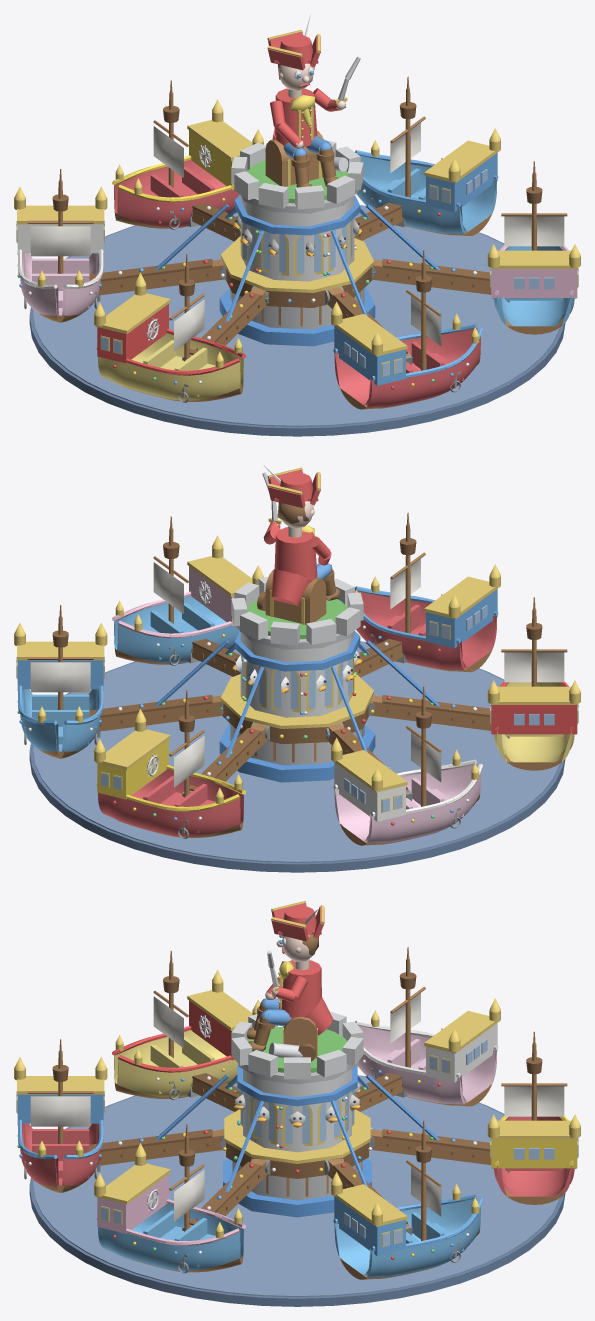
The picture shows the model from 3 angles, top to bottom: view 1: azimuth 30°, elevation 25°; view 2: azimuth 150°, elevation 25°; view 3: azimuth 270°, elevation 25°; orthographic projection.
Parts seen in each view (by area): view 1: base, hang3, hang4, hang0, hang1, hang2, hang5, rotor, tilt2, tilt5, tilt3, tilt4 (+2 smaller); view 2: base, hang1, hang2, hang4, hang5, hang0, hang3, rotor, tilt0, tilt3, tilt1, tilt2 (+2 smaller); view 3: base, hang5, hang0, hang2, hang3, hang4, hang1, rotor, tilt4, tilt1, tilt5, tilt0 (+2 smaller).
Part boxes in pixels (x1=…): base: x1=29, y1=14, x2=565, y2=436; hang3: x1=94, y1=253, x2=246, y2=402; hang4: x1=331, y1=250, x2=482, y2=409; hang0: x1=355, y1=76, x2=500, y2=235; hang1: x1=112, y1=80, x2=263, y2=229; hang2: x1=14, y1=169, x2=107, y2=322; hang5: x1=487, y1=161, x2=580, y2=334; rotor: x1=220, y1=194, x2=375, y2=307; tilt2: x1=89, y1=204, x2=228, y2=301; tilt5: x1=366, y1=204, x2=509, y2=302; tilt3: x1=182, y1=230, x2=268, y2=360; tilt4: x1=325, y1=230, x2=412, y2=364; base: x1=29, y1=465, x2=565, y2=872; hang1: x1=94, y1=689, x2=246, y2=838; hang2: x1=331, y1=686, x2=482, y2=845; hang4: x1=355, y1=512, x2=500, y2=672; hang5: x1=112, y1=516, x2=263, y2=665; hang0: x1=14, y1=605, x2=107, y2=758; hang3: x1=487, y1=597, x2=580, y2=770; rotor: x1=219, y1=631, x2=374, y2=744; tilt0: x1=89, y1=640, x2=228, y2=737; tilt3: x1=366, y1=640, x2=509, y2=738; tilt1: x1=182, y1=666, x2=269, y2=796; tilt2: x1=326, y1=666, x2=412, y2=800; base: x1=29, y1=901, x2=565, y2=1306; hang5: x1=94, y1=1124, x2=245, y2=1273; hang0: x1=331, y1=1120, x2=482, y2=1279; hang2: x1=355, y1=947, x2=500, y2=1106; hang3: x1=112, y1=950, x2=260, y2=1099; hang4: x1=14, y1=1039, x2=107, y2=1192; hang1: x1=487, y1=1031, x2=580, y2=1204; rotor: x1=222, y1=1064, x2=372, y2=1178; tilt4: x1=89, y1=1074, x2=228, y2=1171; tilt1: x1=366, y1=1074, x2=509, y2=1172; tilt5: x1=182, y1=1100, x2=270, y2=1230; tilt0: x1=324, y1=1100, x2=412, y2=1235.
Size of the model in its own units: 9.31 by 5.42 by 9.42.
